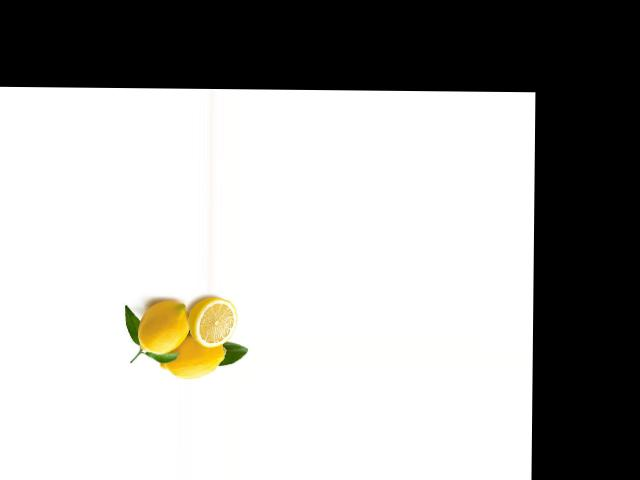lemon: (157, 330, 223, 381)
